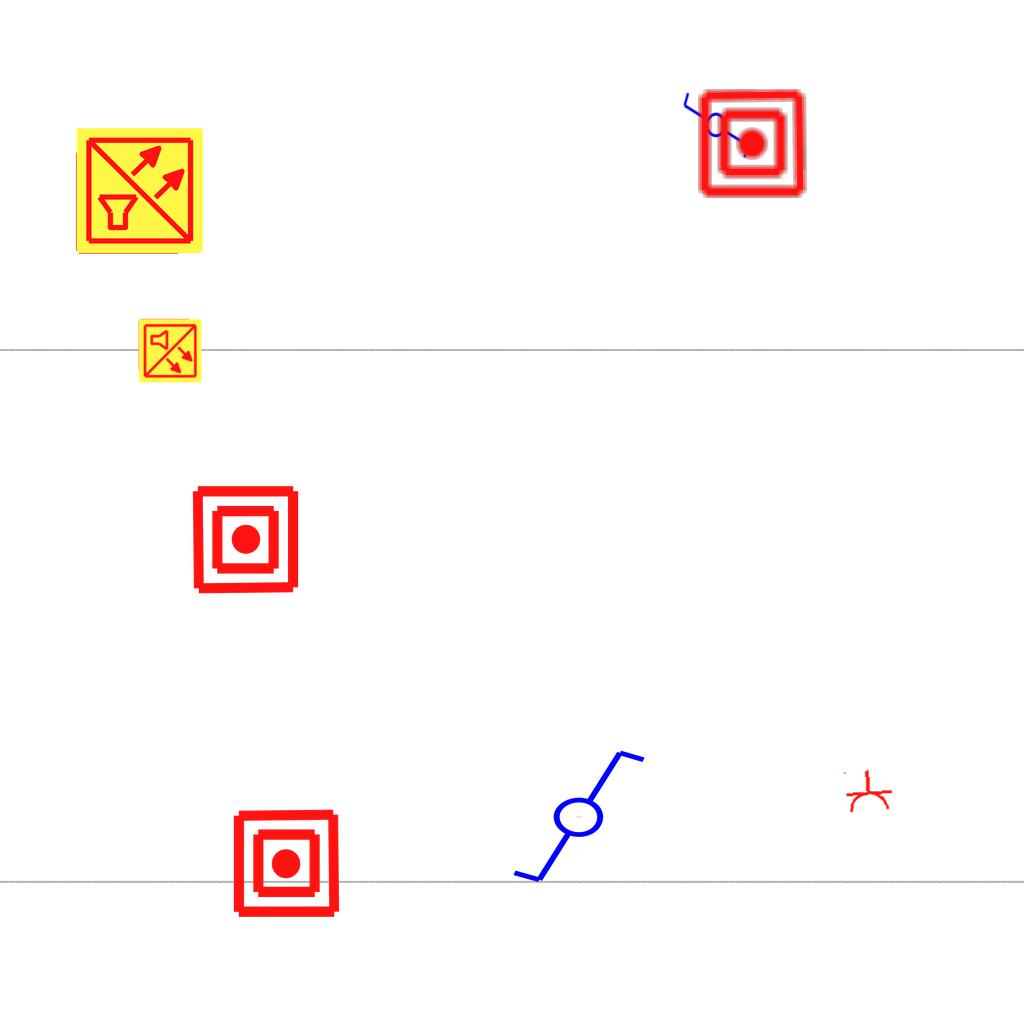NAM-Nichtautomatischer_Melder: (189, 483, 302, 596), (230, 807, 343, 920), (696, 87, 809, 200)
OKW_Multisensormelder_(Kombination_optischer_Rauch-Kahlenmonoxid_Waerme-Melder): (74, 125, 206, 257), (137, 318, 203, 384)
Schukosteckdose_einfach: (841, 767, 894, 815)
Wechselschalter: (492, 743, 649, 887), (681, 82, 753, 160)
